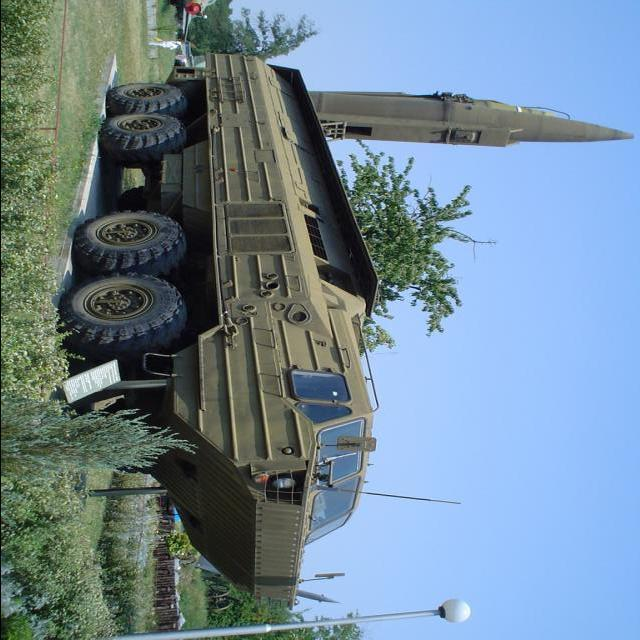missile: (296, 79, 640, 156)
